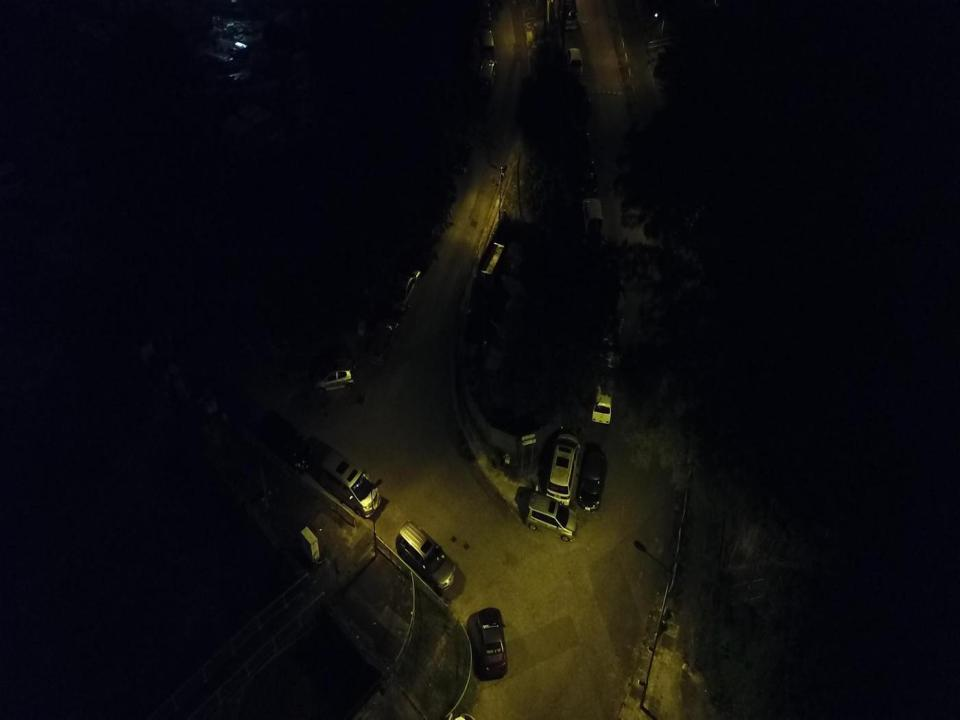car: (317, 450, 382, 519), (395, 520, 456, 593), (526, 490, 580, 542), (545, 431, 581, 507), (476, 607, 509, 678), (576, 442, 608, 512), (385, 264, 422, 316), (310, 362, 355, 397), (590, 374, 614, 426), (474, 53, 499, 95), (480, 26, 496, 56)
van: (581, 195, 603, 240), (566, 45, 584, 80)
